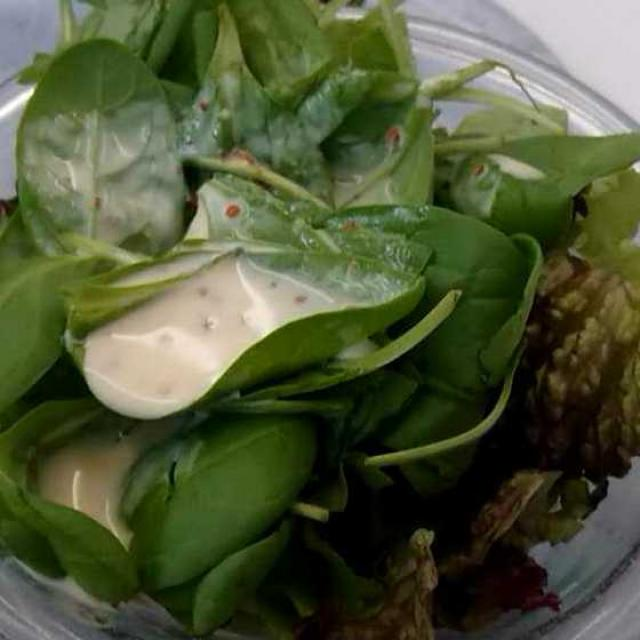leaf-spinach: (6, 17, 628, 620)
salad-dressing: (10, 115, 362, 557)
